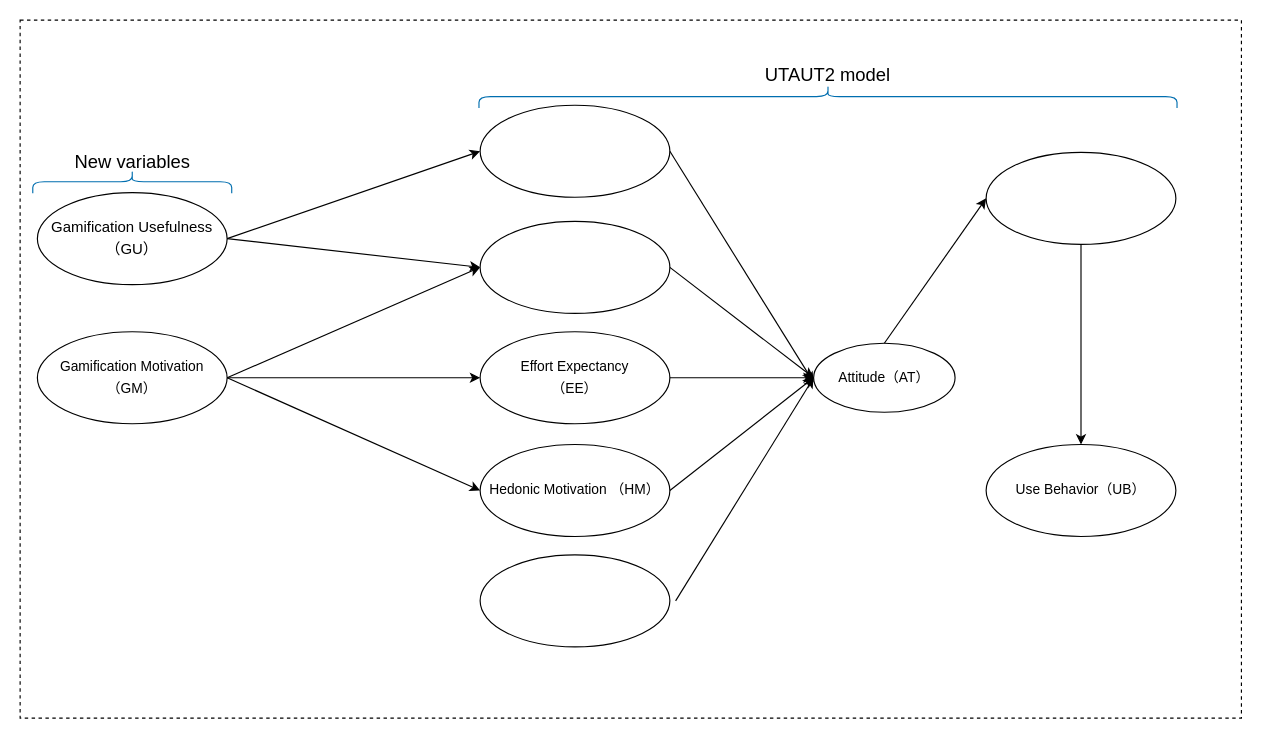
Image size: 1262x738. Some labels were removed from this diagram. The centre of each missing label's shape, as x and y in pixels:
"Behavioral Intention （BI）" goes at pixel 1080 197.
"Performance Expectancy（PE）" goes at pixel 574 150.
"Self Efficacy （SE）" goes at pixel 574 266.
"Social Influence （SI）" goes at pixel 574 600.
